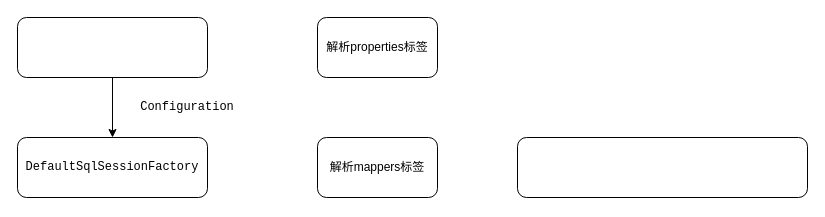
Image size: 825x217. Some labels were removed from this diagram. Here are the shapes that lost their labels. From the top down, the centre of each, then its label:
the point at 112,47: XMLConfigBuilder#parse
the point at 662,167: MapperRegistry Map<Class<?>, MapperProxyFactory<?>>
